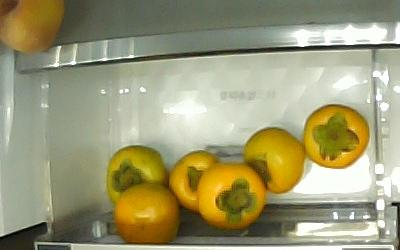persimmon: (199, 162, 265, 228), (242, 127, 305, 193), (303, 106, 368, 168), (114, 182, 178, 243), (107, 146, 166, 206), (170, 150, 225, 206)
